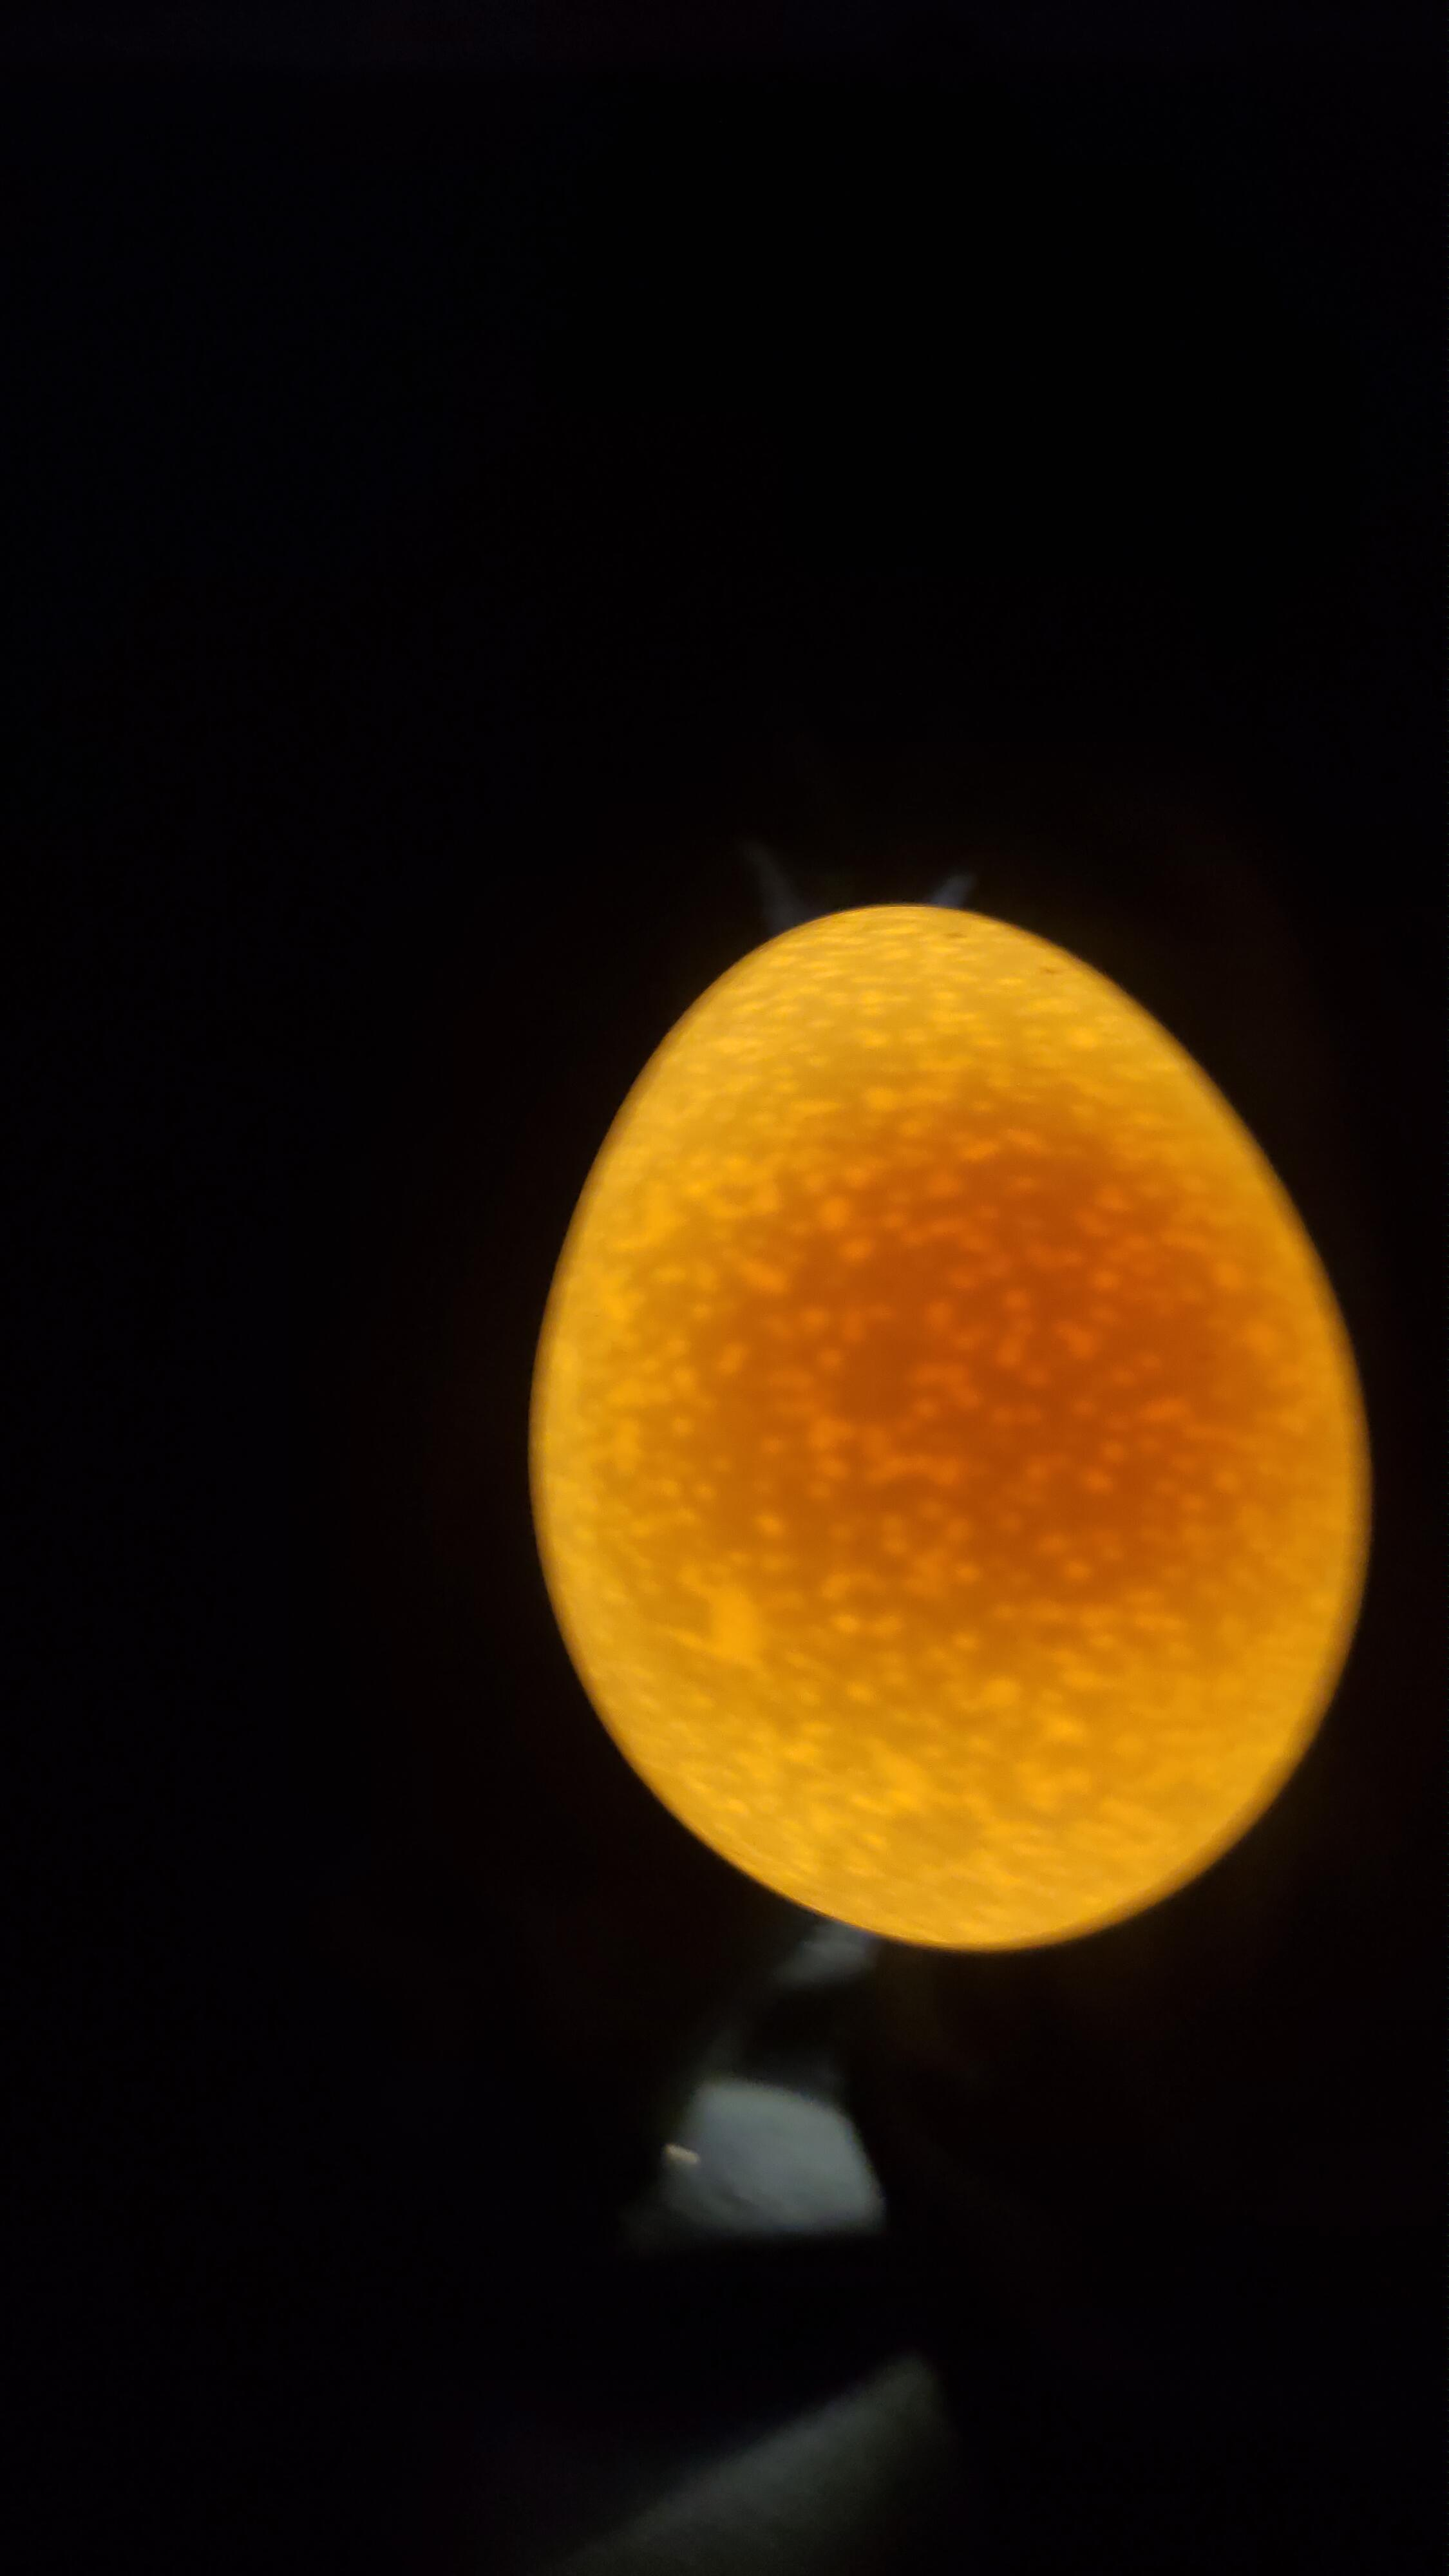A - Good: (451, 869, 1430, 2010)
